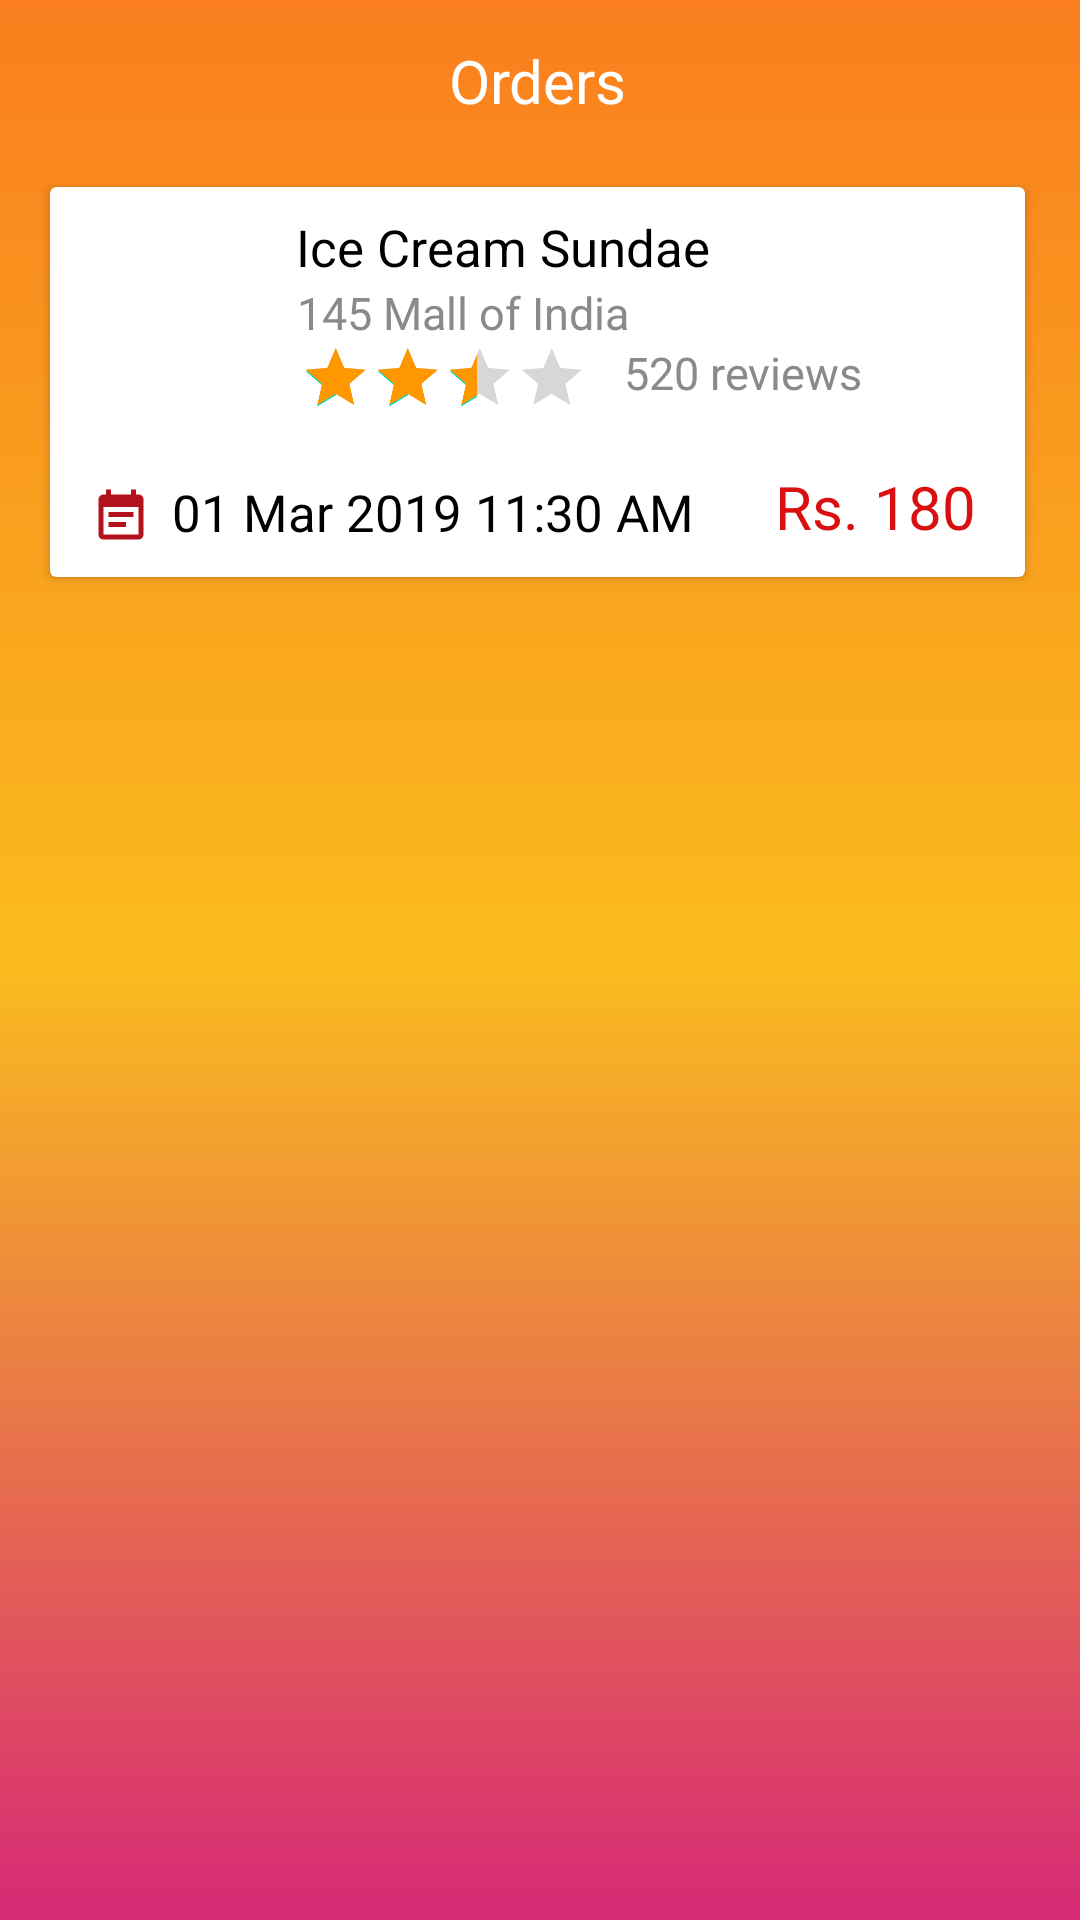

Where to tap for icons on this 1080 × 1920 app screen, as (x=x, y=y):
event note: (x=121, y=514)
